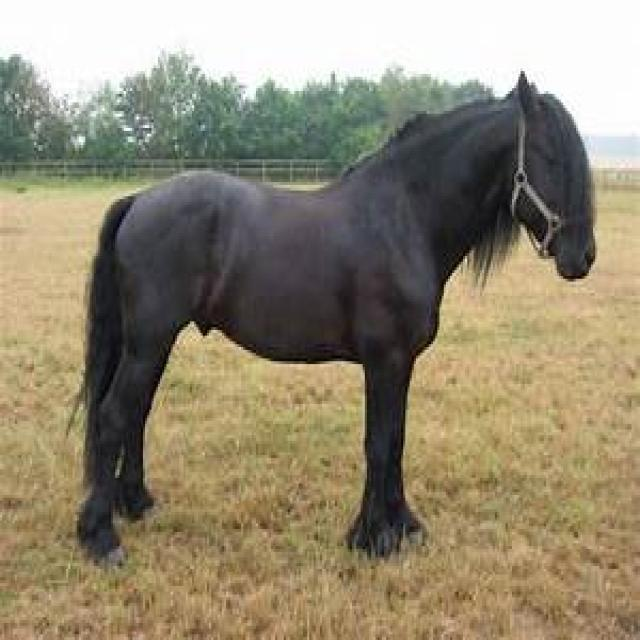horse: (78, 75, 595, 561)
